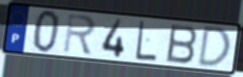0: (31, 9, 62, 54)
4: (99, 17, 127, 60)
B: (165, 23, 199, 66)
D: (196, 24, 233, 68)
L: (135, 19, 159, 63)
R: (62, 12, 98, 57)
